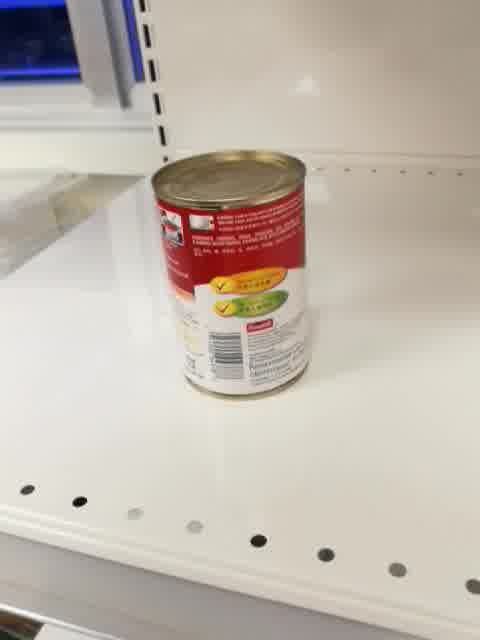tomatosoup: (150, 147, 311, 401)
